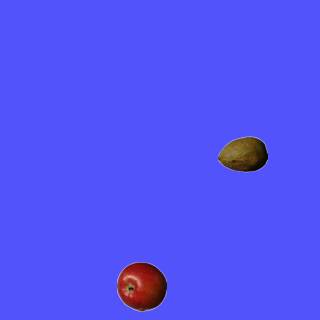Apple Braeburn: (116, 261, 166, 311)
Papaya: (217, 129, 267, 179)
